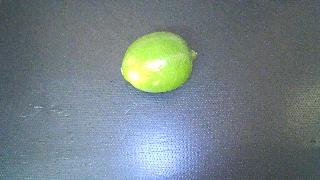EXPORTACION: (121, 31, 197, 93)
